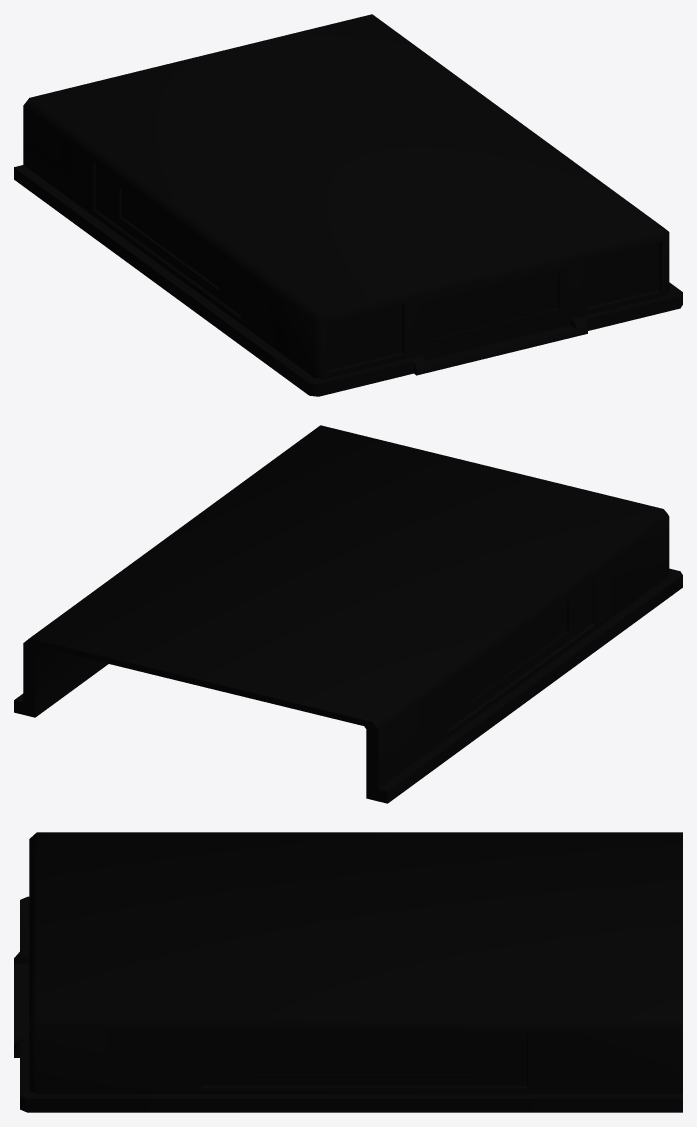
The picture shows the model from 3 angles, top to bottom: view 1: azimuth 30°, elevation 25°; view 2: azimuth 150°, elevation 25°; view 3: azimuth 270°, elevation 25°; orthographic projection. The views are drawn at different scales.
Parts seen in each view (by area): view 1: Joint_0_Object_0; view 2: Joint_0_Object_0; view 3: Joint_0_Object_0.
Boxes of the visible parts, bbox=[...] form: Joint_0_Object_0: bbox=[14, 14, 682, 396]; Joint_0_Object_0: bbox=[14, 425, 682, 803]; Joint_0_Object_0: bbox=[14, 832, 682, 1112].
Bounding box in the file's own units: 1580 × 315 × 2208.
1 material, 1 textured.
